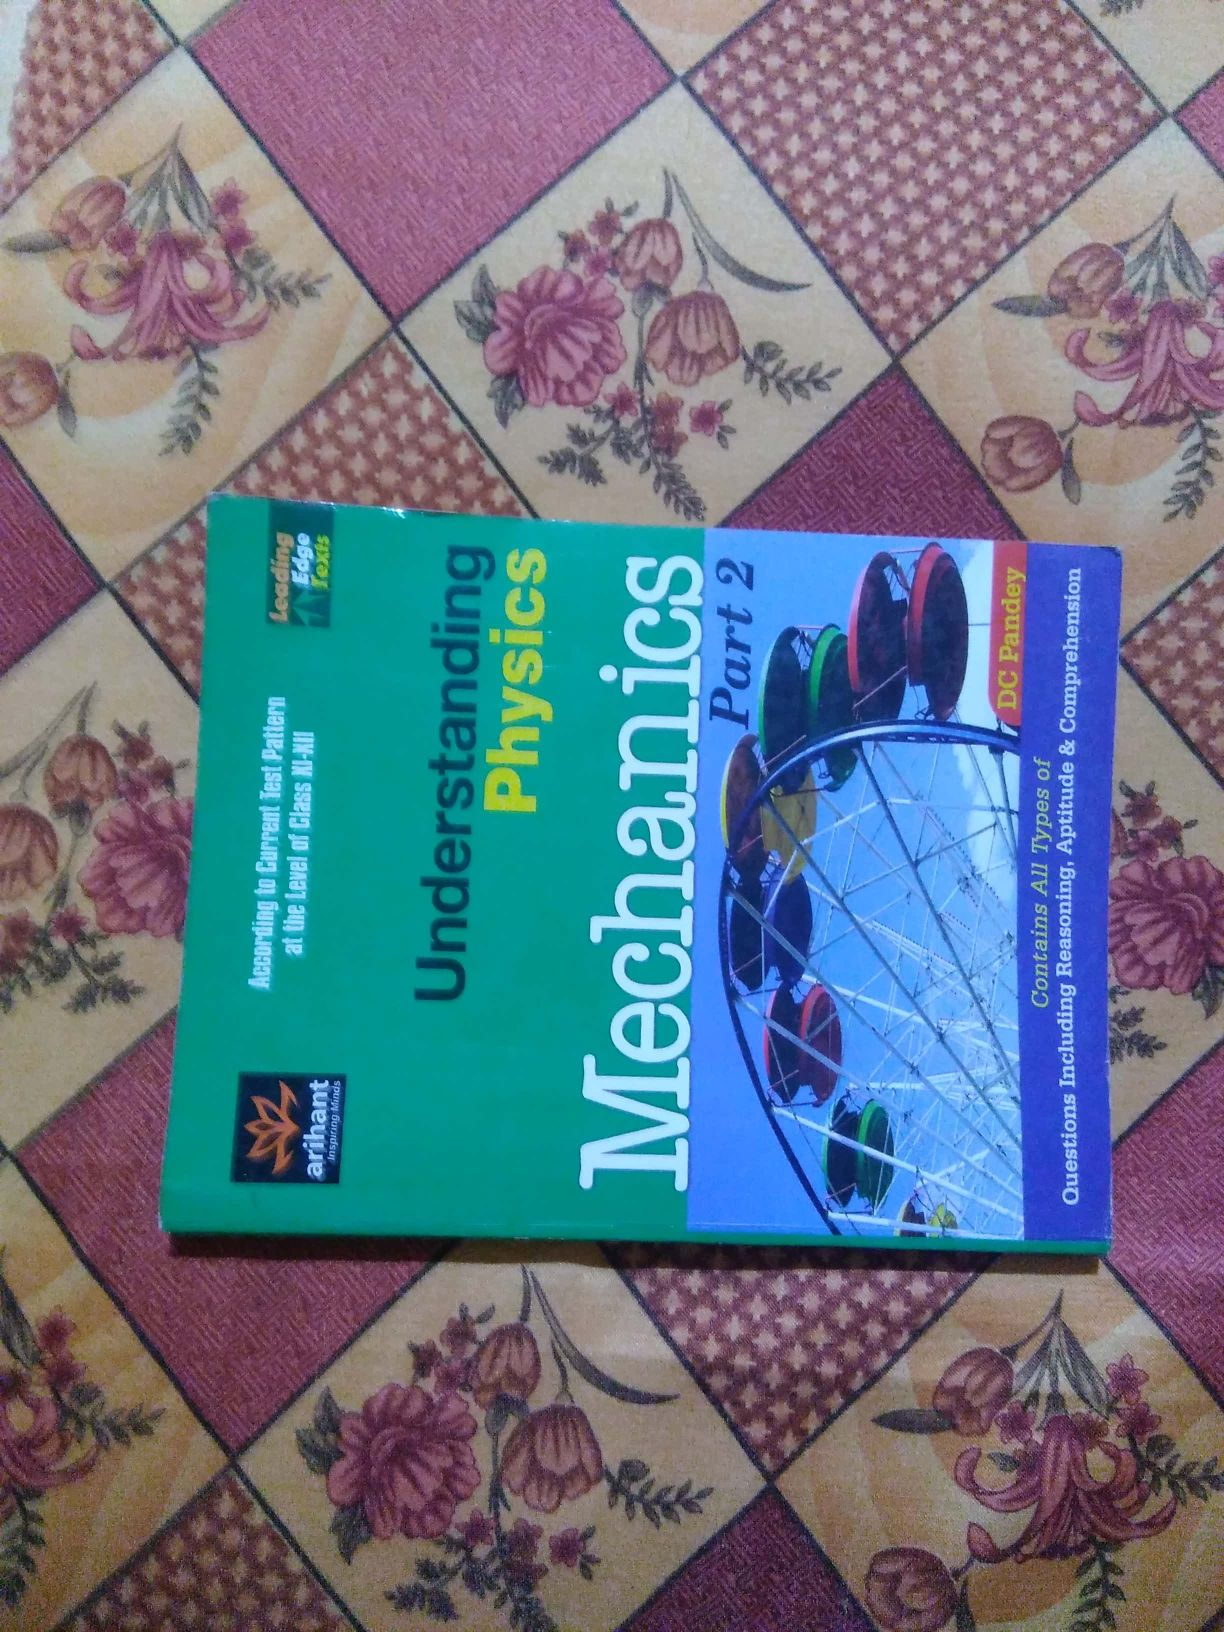mechanics: (141, 470, 1164, 1279)
